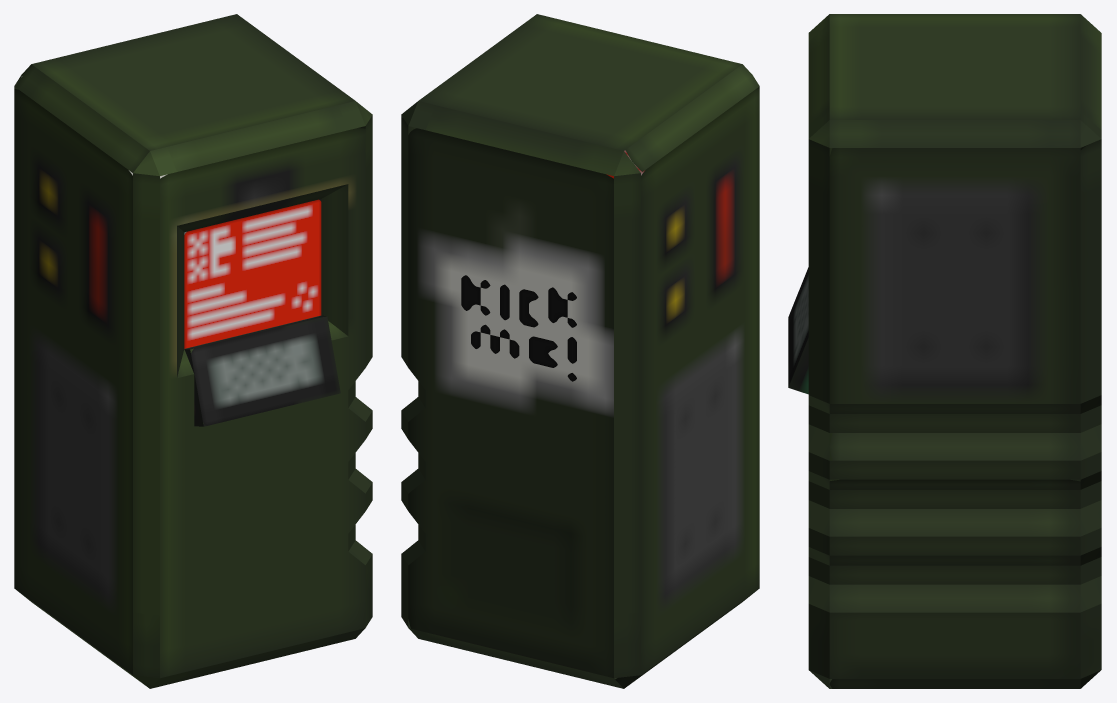
Rendered from computa_flag.obj.
3 renders of one model, left to right at view 1: azimuth 30°, elevation 25°; view 2: azimuth 150°, elevation 25°; view 3: azimuth 270°, elevation 25°, orthographic. The views are drawn at different scales.
Visible parts, largest first — view 1: Terminal, SadScreen, Keypad; view 2: Terminal, KICKME; view 3: Terminal, Keypad.
Boxes of the visible parts, bbox=[...] form: Terminal: bbox=[14, 14, 372, 688]; SadScreen: bbox=[184, 199, 321, 348]; Keypad: bbox=[184, 315, 340, 426]; Terminal: bbox=[401, 14, 759, 688]; KICKME: bbox=[461, 275, 576, 381]; Terminal: bbox=[808, 14, 1101, 688]; Keypad: bbox=[788, 267, 808, 394].
Bounding box in the file's own units: 0.875 × 1.88 × 0.9385.
